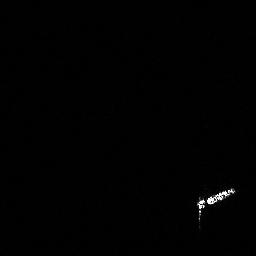ship: (192, 184, 238, 222)
